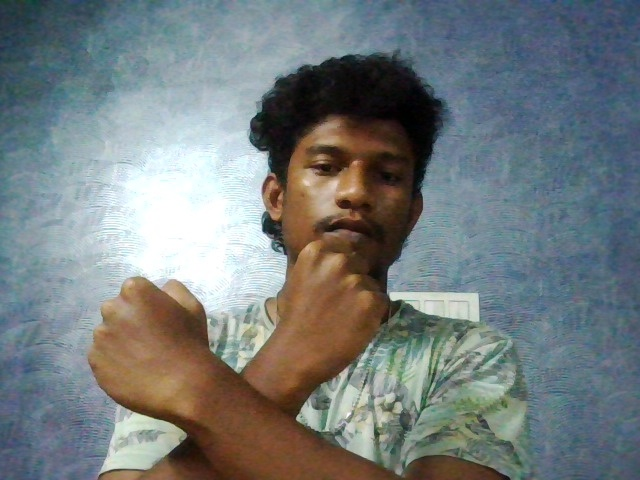danger: (68, 228, 401, 416)
